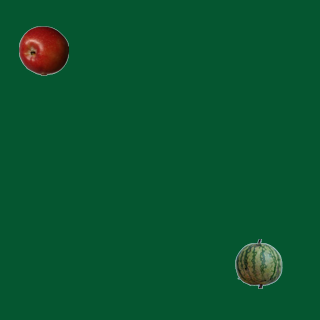Apple Braeburn: (18, 25, 68, 75)
Watermelon: (233, 238, 283, 288)
